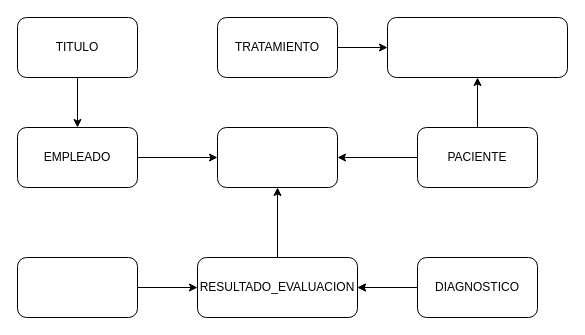
Image size: 585x335. Some labels were removed from this diagram. Here are the shapes that lost their labels. From the top down, the centre of each, then its label:
[477,47]: TRATAMIENTO_PACIENTE
[277,157]: EVALUACION
[77,287]: SINTOMA
